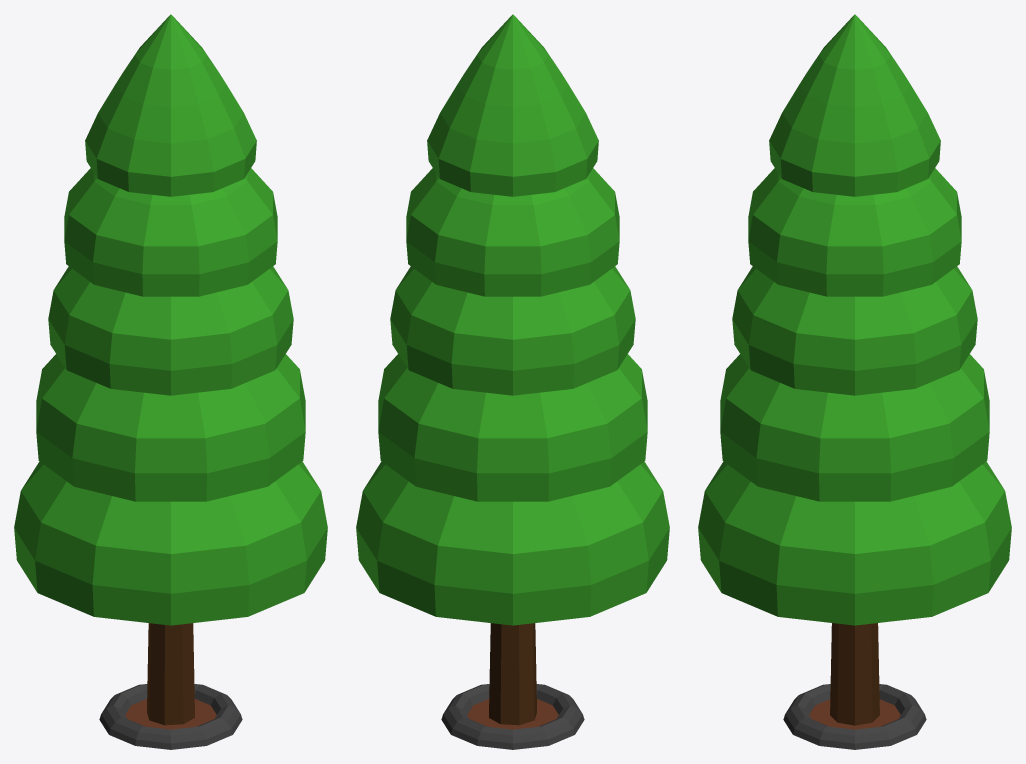
File: Road Tree.fbx
3 views of the same model, side by side, from view 1: azimuth 30°, elevation 25°; view 2: azimuth 150°, elevation 25°; view 3: azimuth 270°, elevation 25° (orthographic).
Visible parts, largest first — view 1: Road Tree; view 2: Road Tree; view 3: Road Tree.
Boxes of the visible parts, <box> form: Road Tree: <box>14,14,327,749</box>; Road Tree: <box>356,14,669,749</box>; Road Tree: <box>698,14,1011,749</box>.
Bounding box in the file's own units: 230 × 571 × 230.
